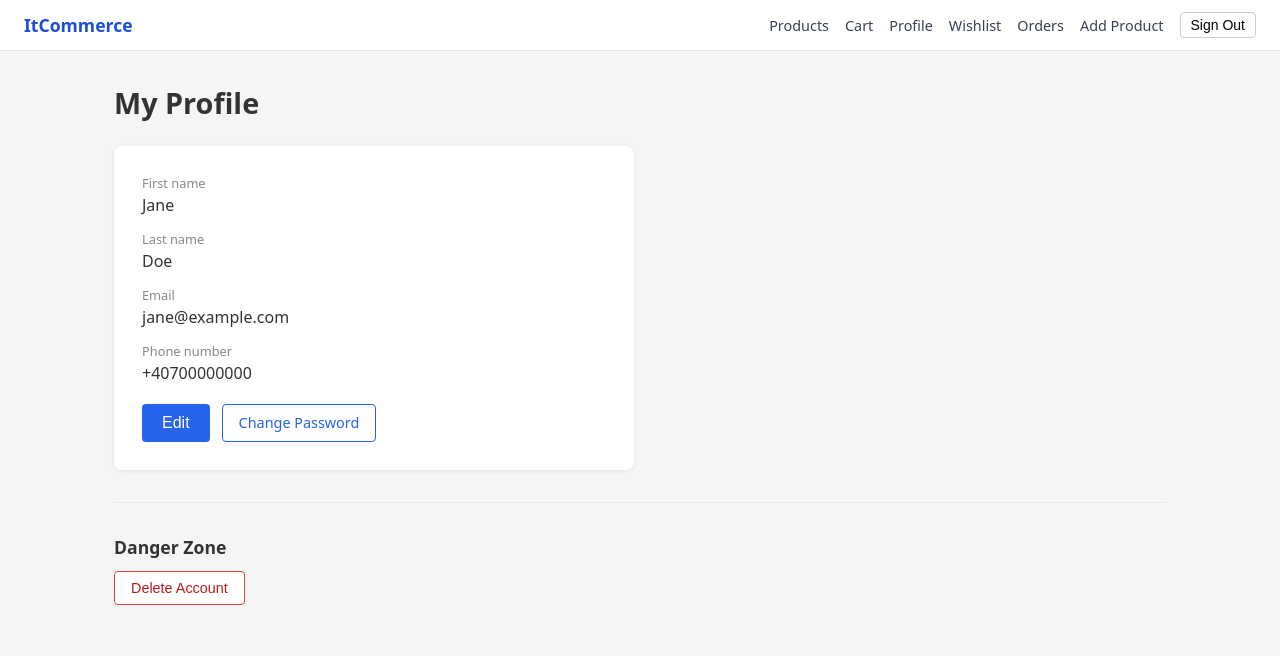
Test case: Profile › edit profile › validates empty lastName
This screenshot has width=1280, height=656.
Click the button "Edit" at (176, 423), box [142,404,210,442]
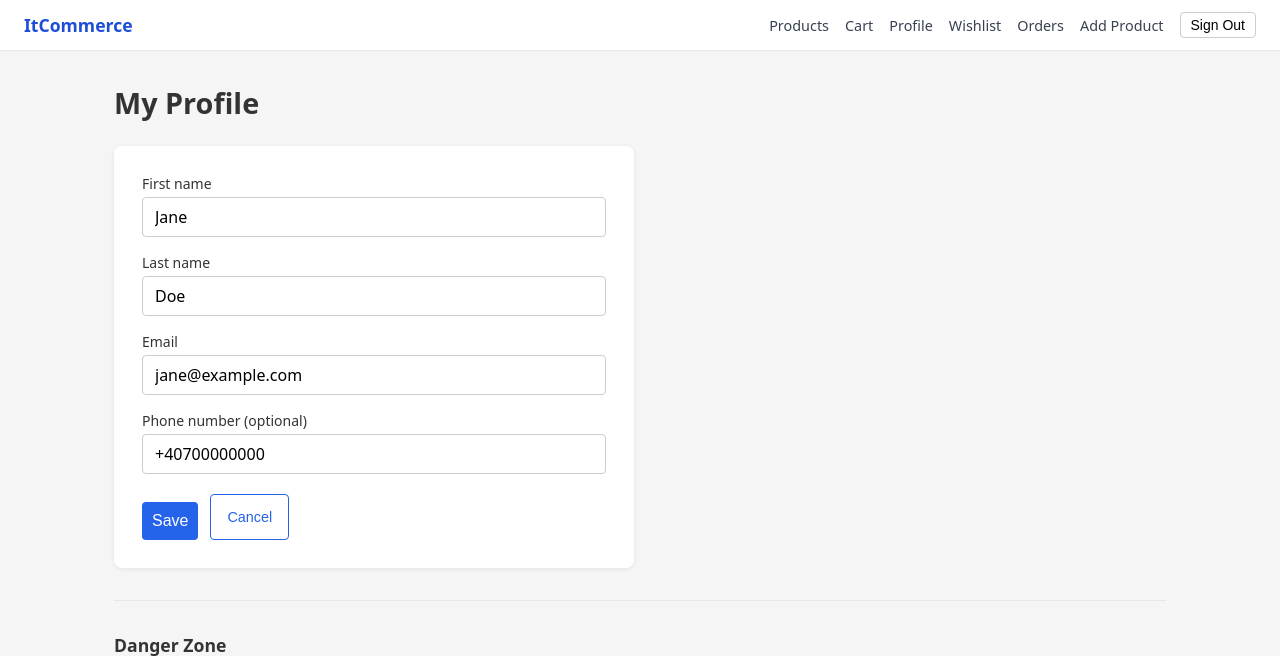
Clear the field labelled "Last name" at (374, 296), box [142,276,606,316]
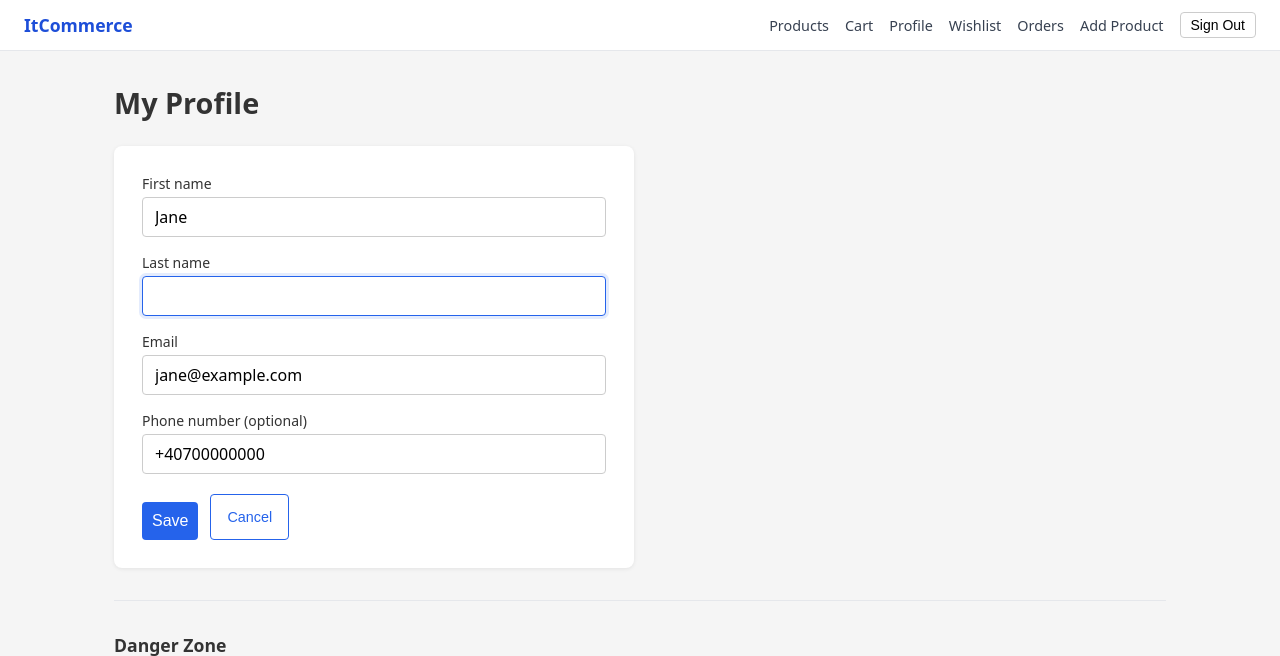
Click the button "Save" at (170, 521), box [142,502,198,540]
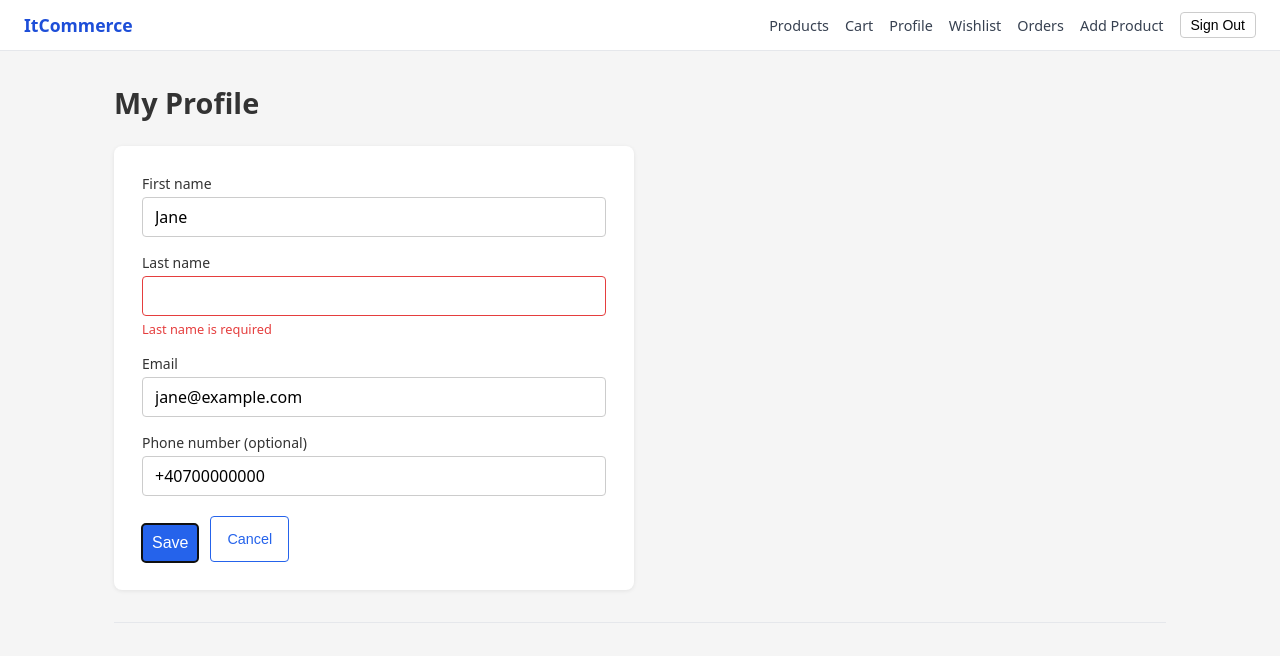
Result: the text "Last name is required" is shown at [142,320,272,338]
